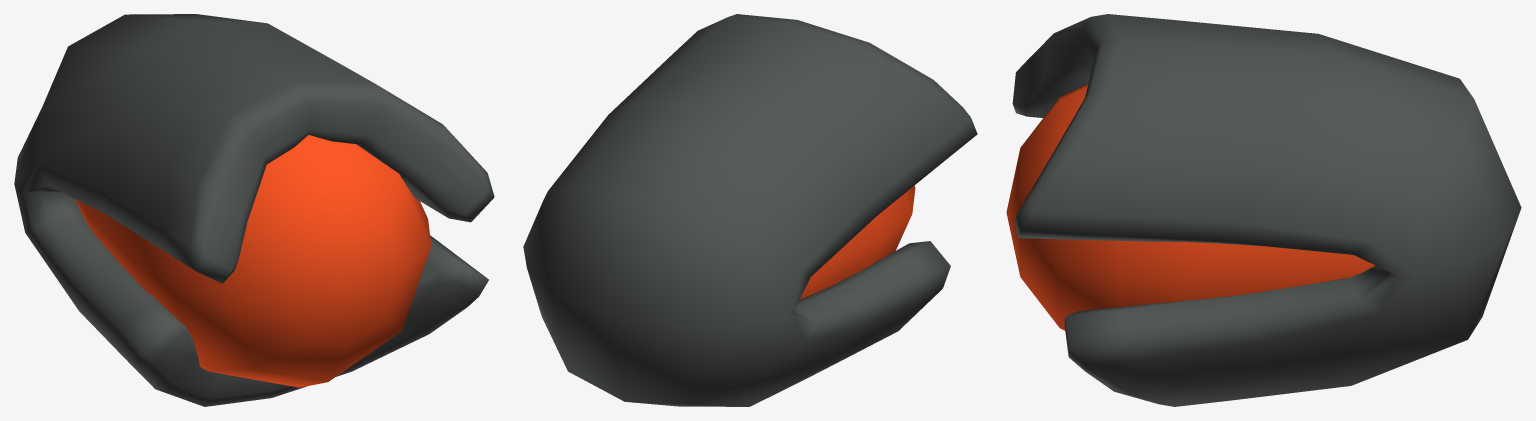
File: xsens_LeftFifthDP.dae
3 views of the same model, side by side, from view 1: azimuth 30°, elevation 25°; view 2: azimuth 150°, elevation 25°; view 3: azimuth 270°, elevation 25° (orthographic). The views are drawn at different scales.
Parts seen in each view (by area): view 1: LeftFifthDP; view 2: LeftFifthDP; view 3: LeftFifthDP.
Part boxes in pixels (<box>): LeftFifthDP: <box>14,14,494,406</box>; LeftFifthDP: <box>523,14,977,406</box>; LeftFifthDP: <box>1006,14,1521,406</box>.
Bounding box in the file's own units: 0.0157 × 0.0207 × 0.0154.
